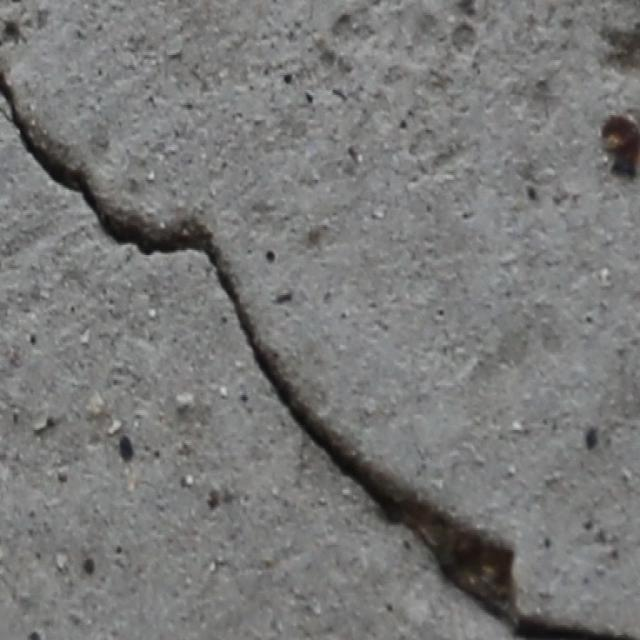crack: (234, 312, 639, 638), (2, 21, 258, 326)
